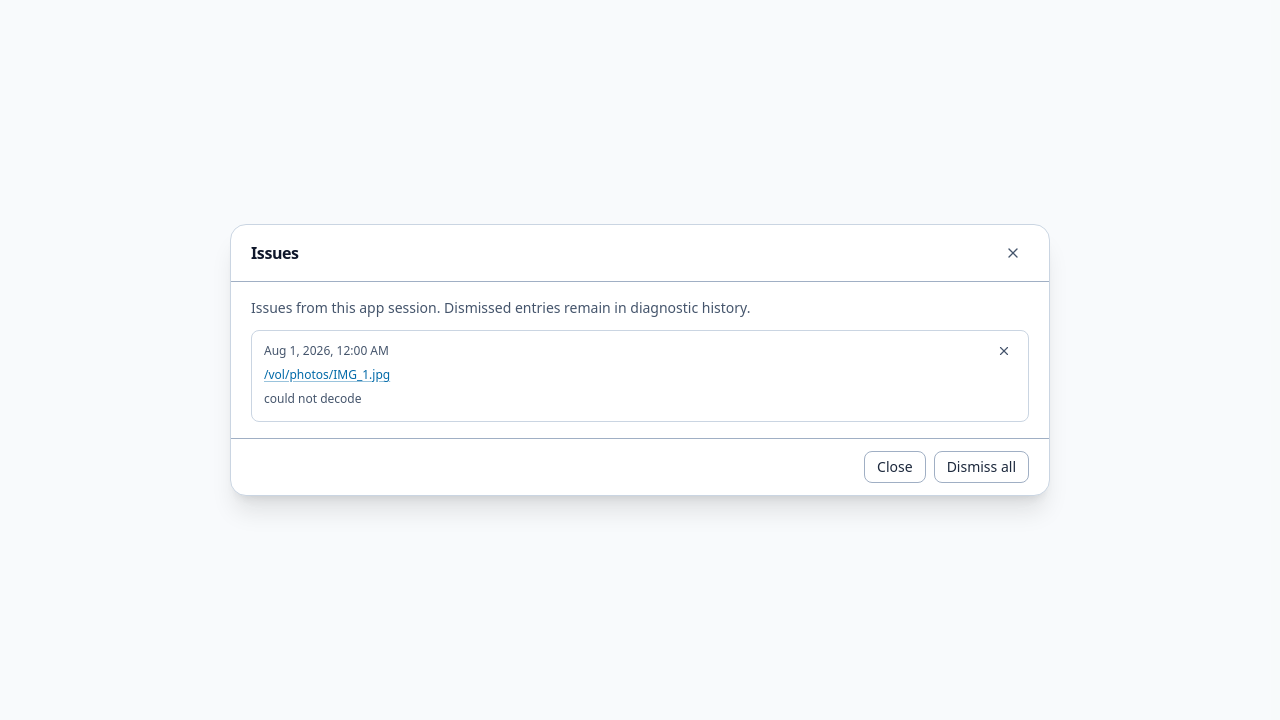
Test: the issues modal › keeps an unavailable target and its explanation in Issues without changing Main
Click the button "/vol/photos/IMG_1.jpg": click(327, 375) [264,367,390,383]
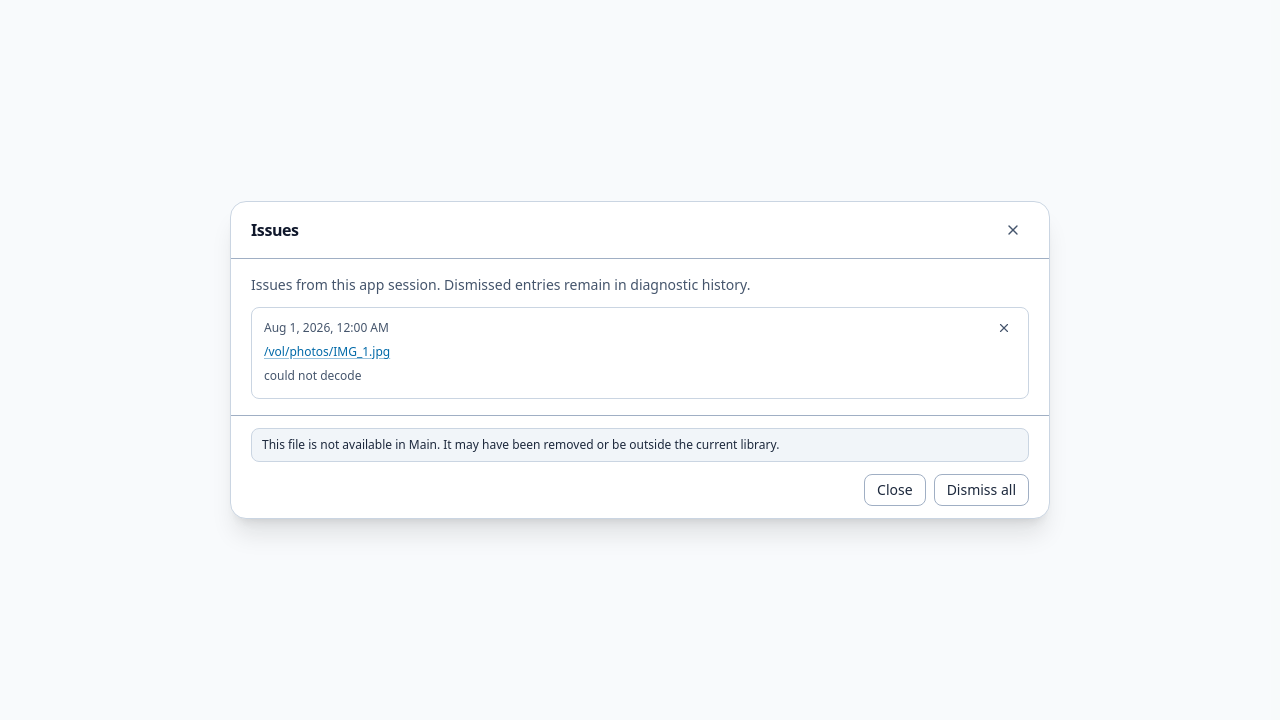
Expected: the dialog is shown, [230,201,1050,519]
Expected: the text "This file is not available in Main" is shown, [262,436,779,453]
